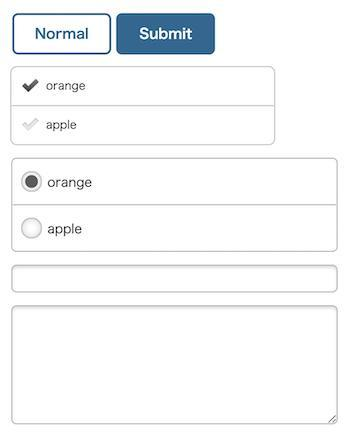button: (10, 67, 277, 107), (11, 106, 276, 146), (117, 13, 217, 57), (14, 14, 112, 55)
input: (12, 265, 339, 294)
label: (48, 178, 94, 193), (47, 224, 84, 239)
radio: (22, 218, 44, 242), (21, 172, 44, 193)
